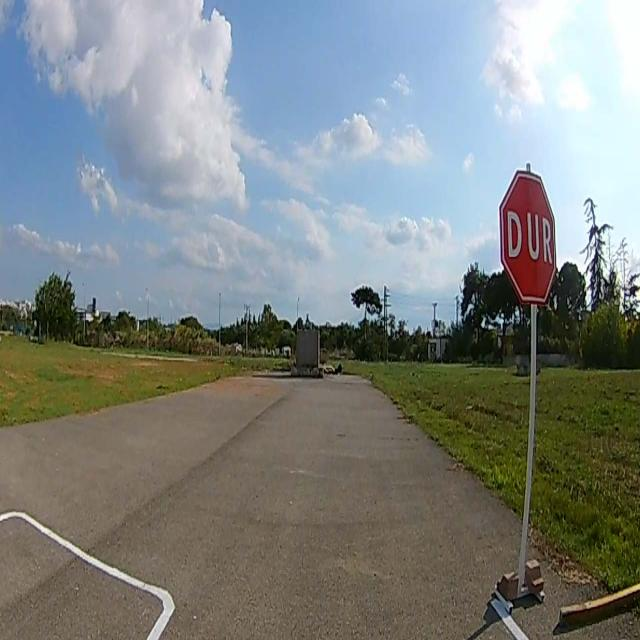dur: (498, 168, 558, 304)
